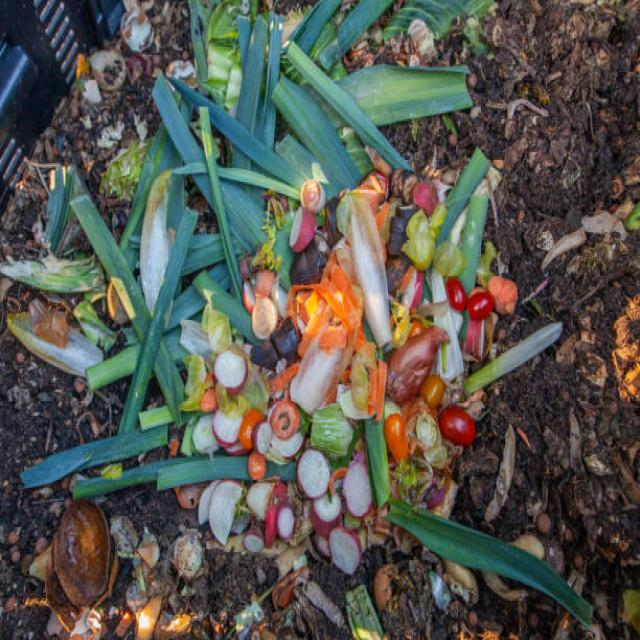trash: (35, 47, 619, 634)
